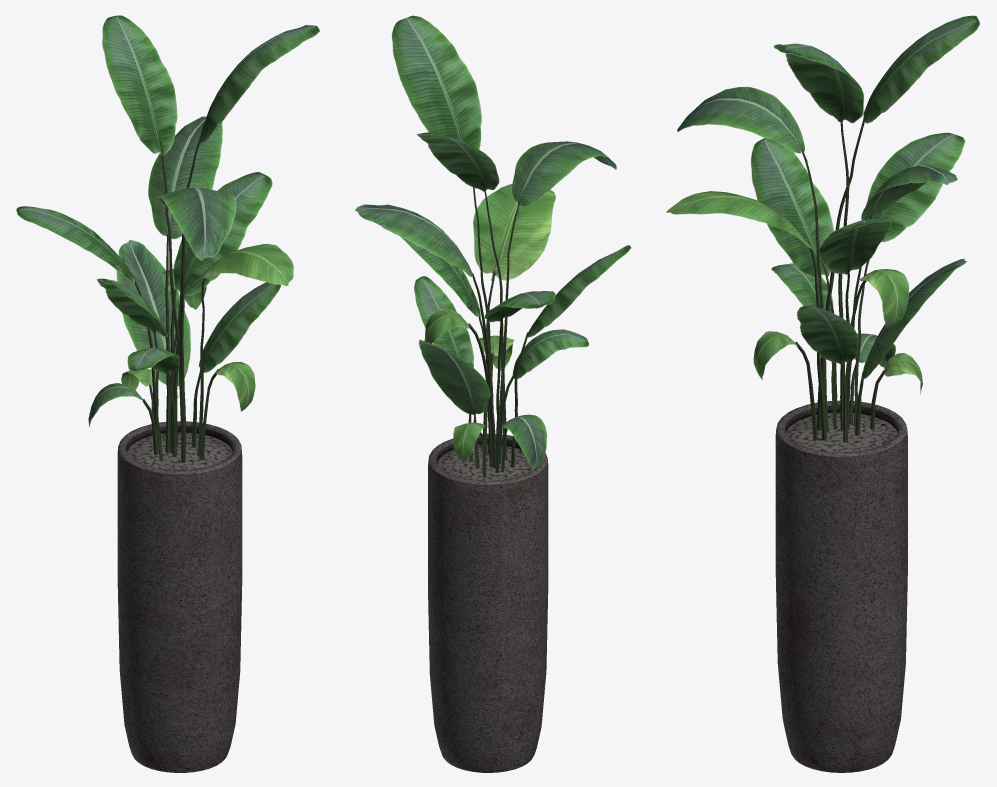
3 renders of one model, left to right at view 1: azimuth 30°, elevation 25°; view 2: azimuth 150°, elevation 25°; view 3: azimuth 270°, elevation 25°, orthographic. The views are drawn at different scales.
Parts seen in each view (by area): view 1: Ficus_plant; view 2: Ficus_plant; view 3: Ficus_plant.
Boxes of the visible parts, x1,y1,x2,y2 form: Ficus_plant: [16, 15, 320, 772]; Ficus_plant: [355, 15, 631, 772]; Ficus_plant: [666, 15, 979, 772].
Bounding box in the file's own units: 0.4806 × 1.38 × 0.5275.
2 materials, 2 textured.
